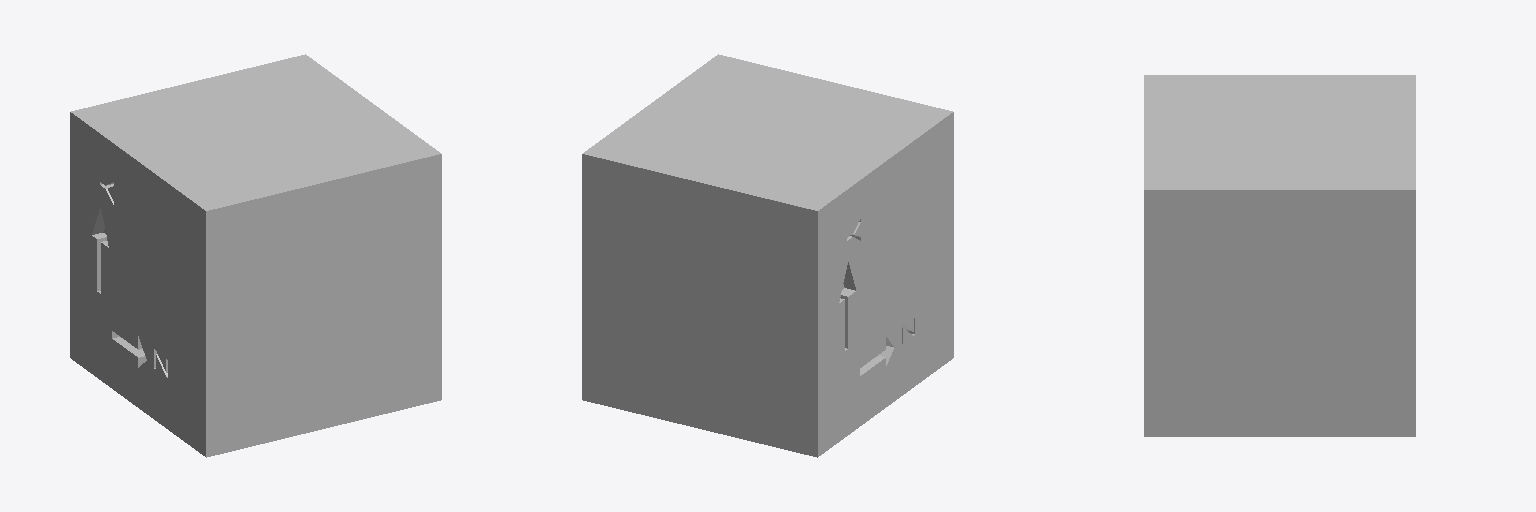
3 views of the same model, side by side, from view 1: azimuth 30°, elevation 25°; view 2: azimuth 150°, elevation 25°; view 3: azimuth 270°, elevation 25° (orthographic).
Visible parts, largest first — view 1: Body1; view 2: Body1; view 3: Body1.
Boxes of the visible parts, <box> form: Body1: <box>70,54,441,457</box>; Body1: <box>582,54,953,457</box>; Body1: <box>1144,75,1415,436</box>.
Bounding box in the file's own units: 1 × 1 × 1.